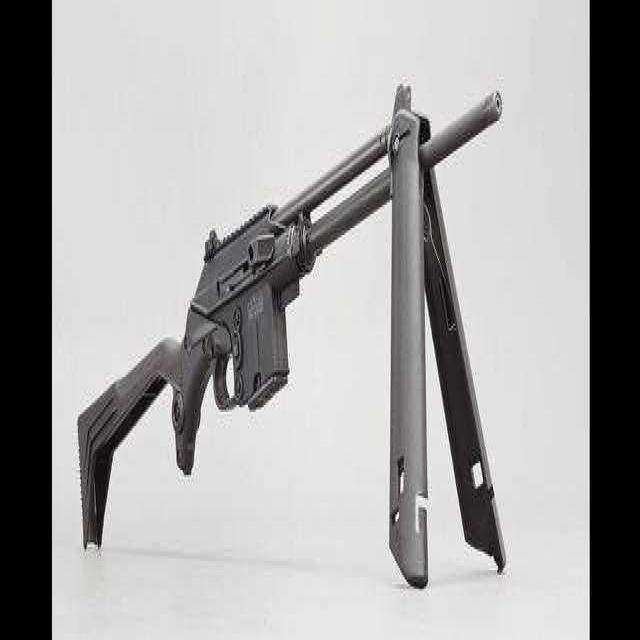weapon: (77, 44, 525, 605)
